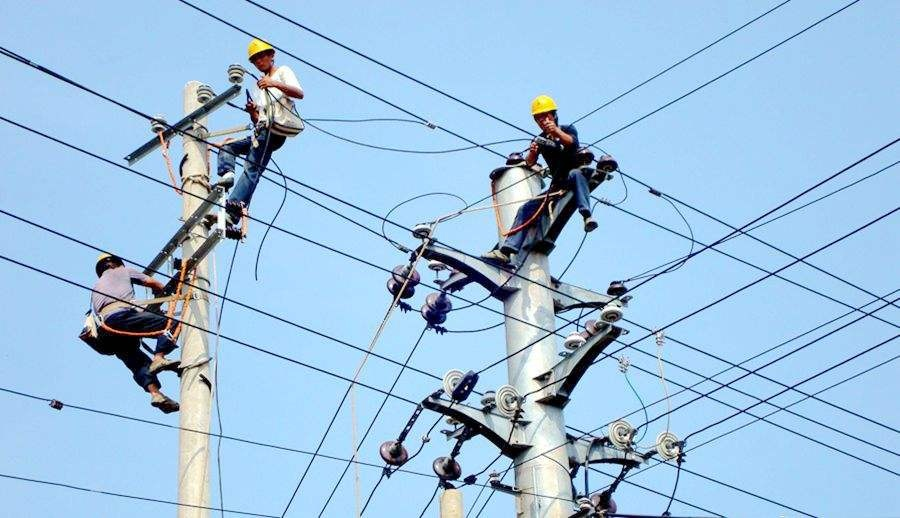yellow: (244, 32, 276, 74), (530, 93, 560, 136), (94, 247, 124, 279)
